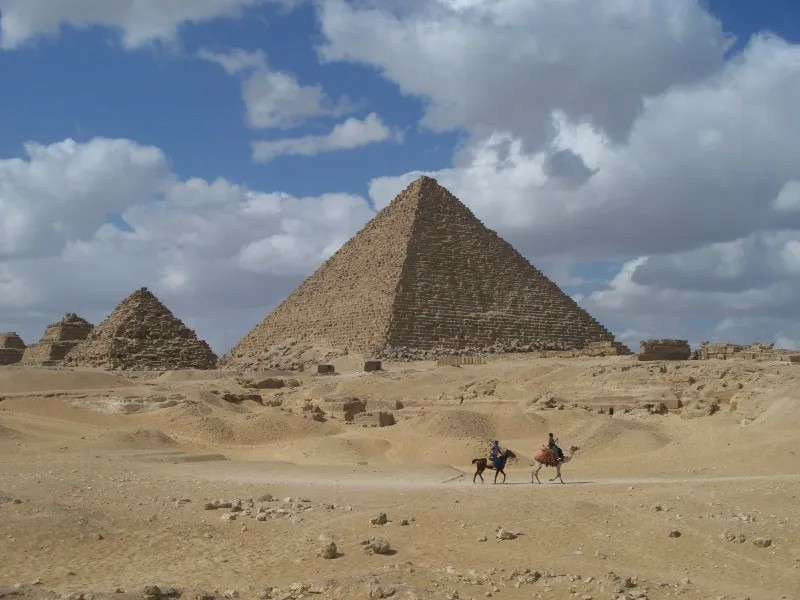Pyramid: (219, 177, 635, 361), (63, 287, 219, 368), (19, 312, 95, 366)
